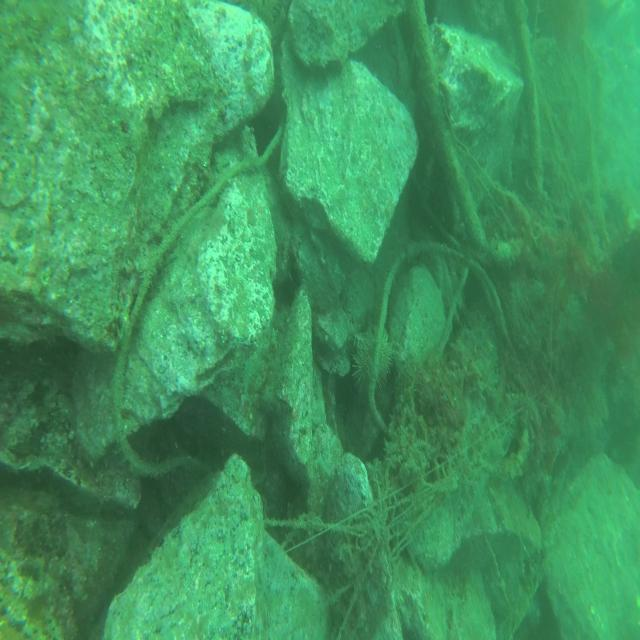echinus: (347, 322, 396, 396)
